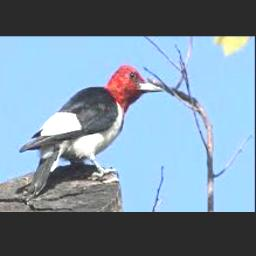Woodpecker: (20, 65, 164, 195)
